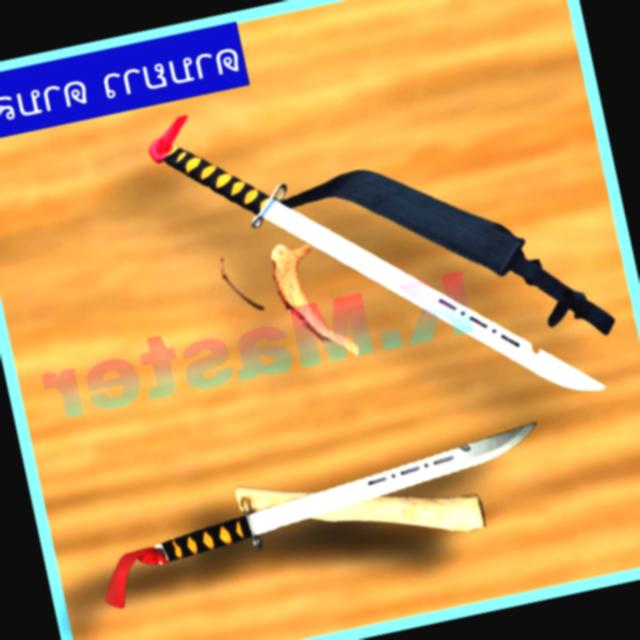long sword: (146, 64, 604, 474), (123, 414, 553, 563)
